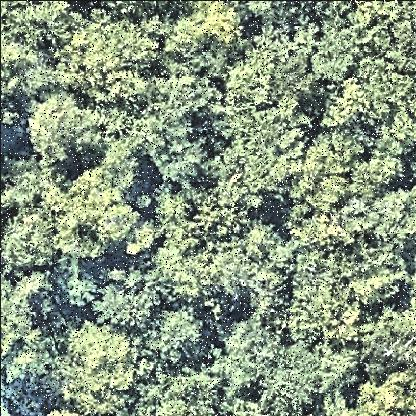tree-top: (167, 235, 291, 315), (51, 13, 160, 103), (314, 1, 413, 100), (219, 317, 319, 412), (212, 112, 300, 206), (55, 173, 135, 259), (60, 319, 139, 403), (18, 88, 105, 164), (147, 58, 223, 141), (234, 33, 316, 109), (1, 270, 56, 380), (295, 134, 373, 211), (287, 268, 365, 342), (1, 7, 58, 105), (91, 268, 164, 334), (162, 1, 250, 54), (144, 303, 211, 369), (357, 303, 415, 379), (147, 129, 217, 191), (137, 368, 227, 416), (1, 208, 64, 274), (363, 185, 416, 253), (2, 156, 60, 212), (321, 80, 375, 133), (347, 375, 416, 416), (120, 215, 164, 263), (34, 405, 86, 416)
